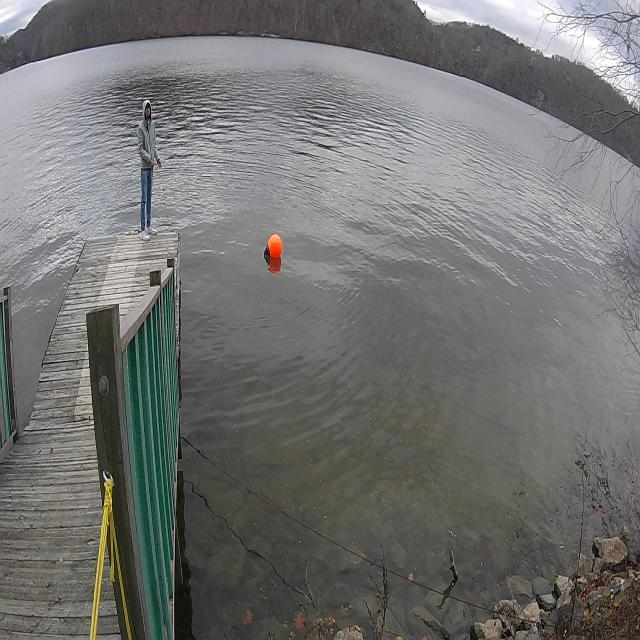Buoy: (262, 226, 289, 274)
